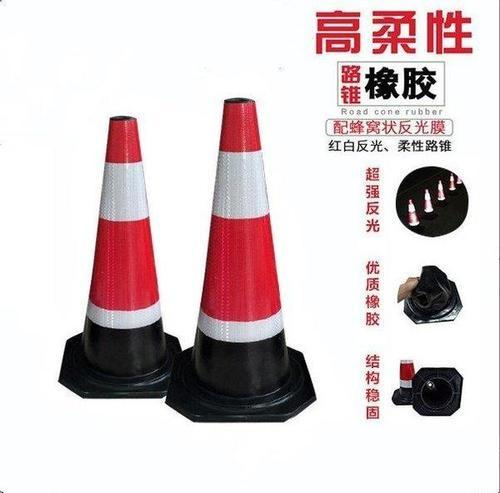cone_barrel: (178, 102, 308, 413), (61, 125, 177, 394), (359, 256, 384, 329), (396, 356, 414, 396)
